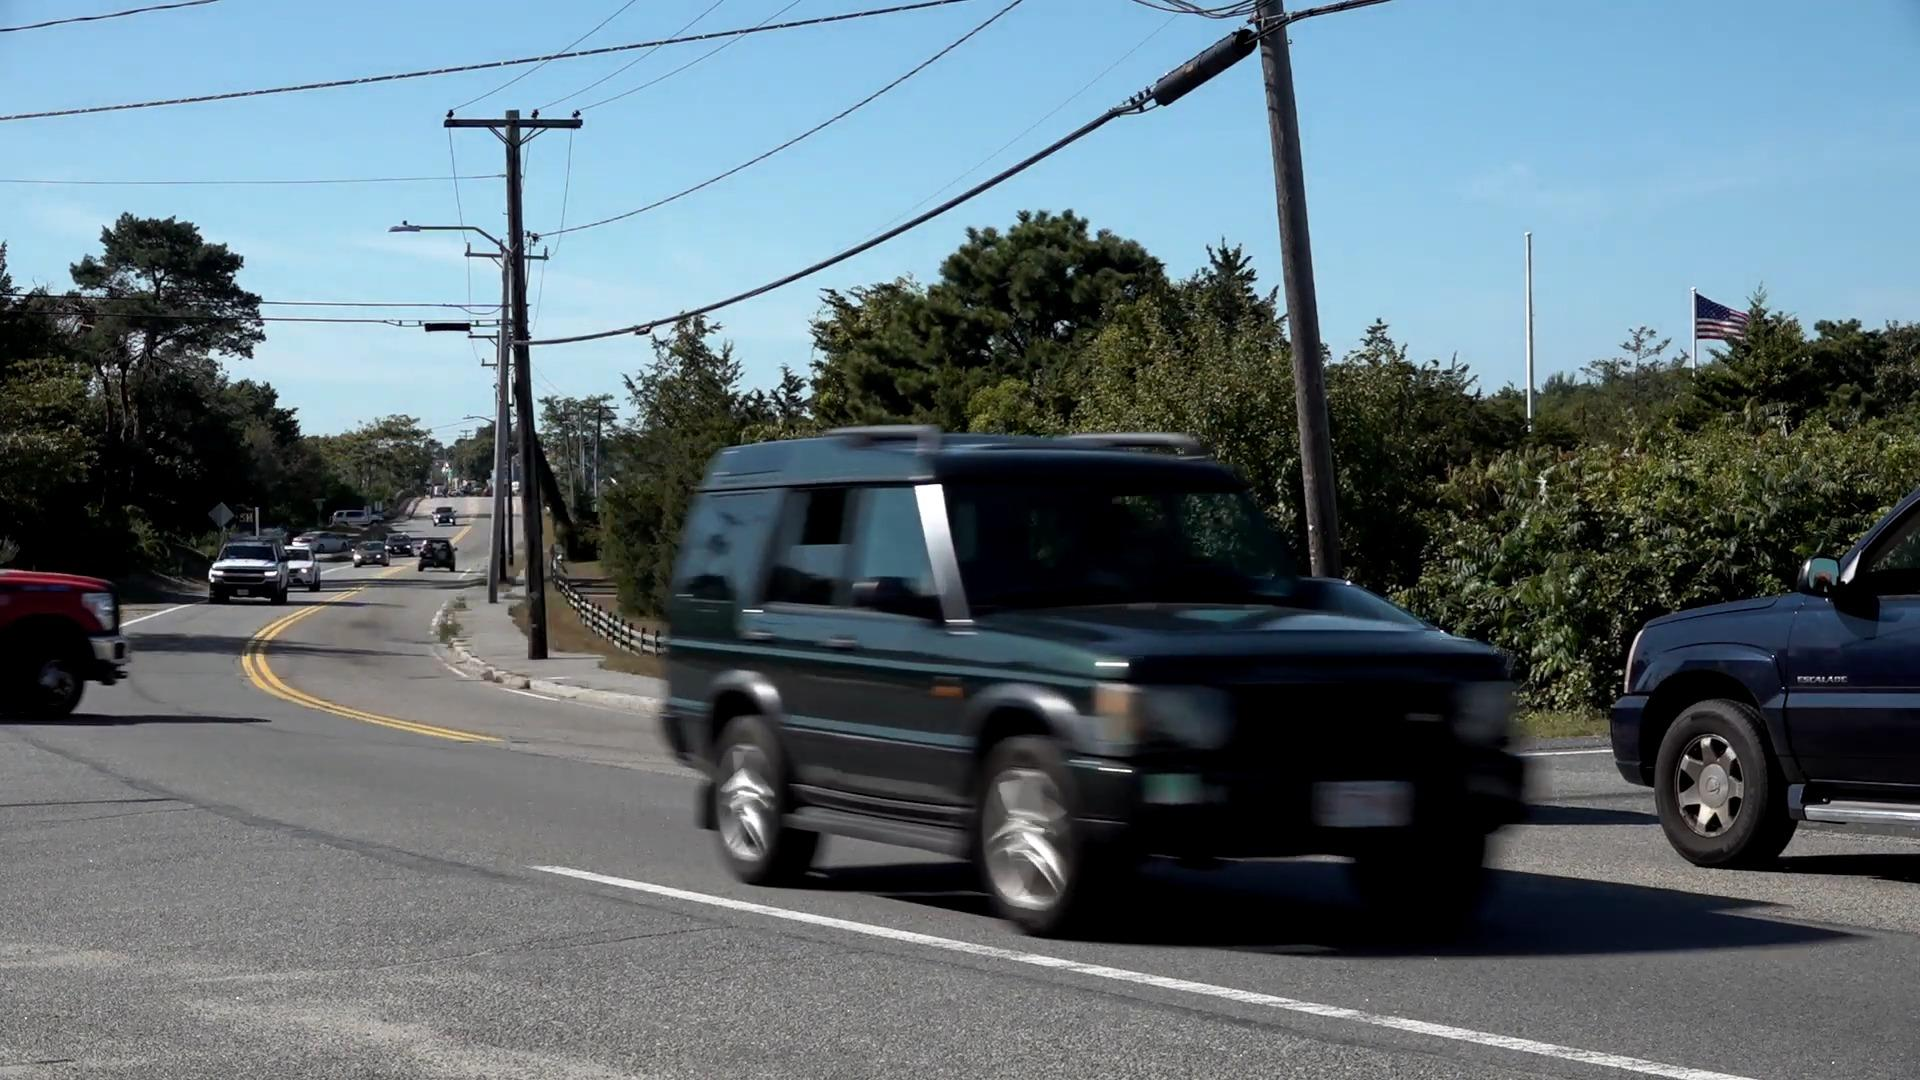pickup: (205, 524, 292, 617)
suv: (667, 415, 1528, 933)
